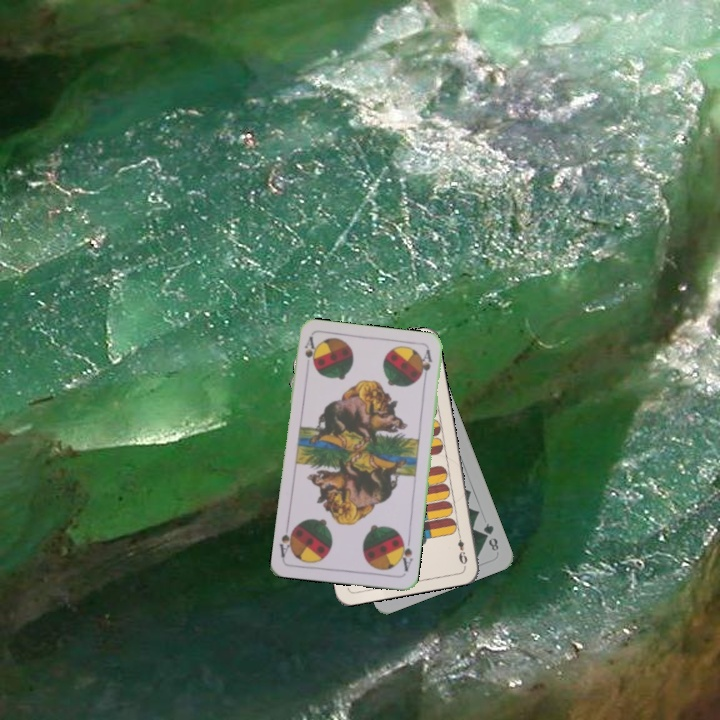E9: (454, 528, 470, 568)
G8: (479, 519, 501, 554)
SA: (395, 534, 415, 574), (300, 333, 319, 370)
